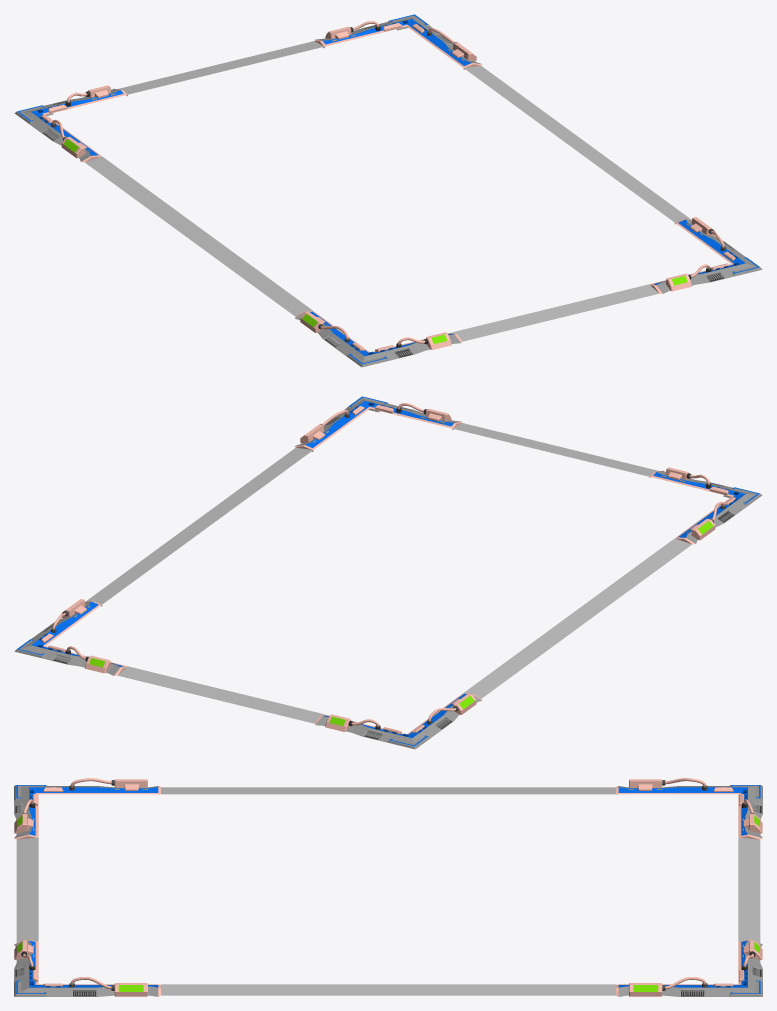
The model's file is 157_NFT_Display_-_8x12.fbx.
3 renders of one model, top to bottom at view 1: azimuth 30°, elevation 25°; view 2: azimuth 150°, elevation 25°; view 3: azimuth 270°, elevation 25°, orthographic. The views are drawn at different scales.
Parts seen in each view (by area): view 1: NFT_basic_8x8; view 2: NFT_basic_8x8; view 3: NFT_basic_8x8.
Boxes of the visible parts, left/top/right/bottom form: NFT_basic_8x8: left=14, top=14, right=762, bottom=367; NFT_basic_8x8: left=14, top=396, right=762, bottom=749; NFT_basic_8x8: left=14, top=778, right=762, bottom=996.
Bounding box in the file's own units: 800 × 24.25 × 1200.
